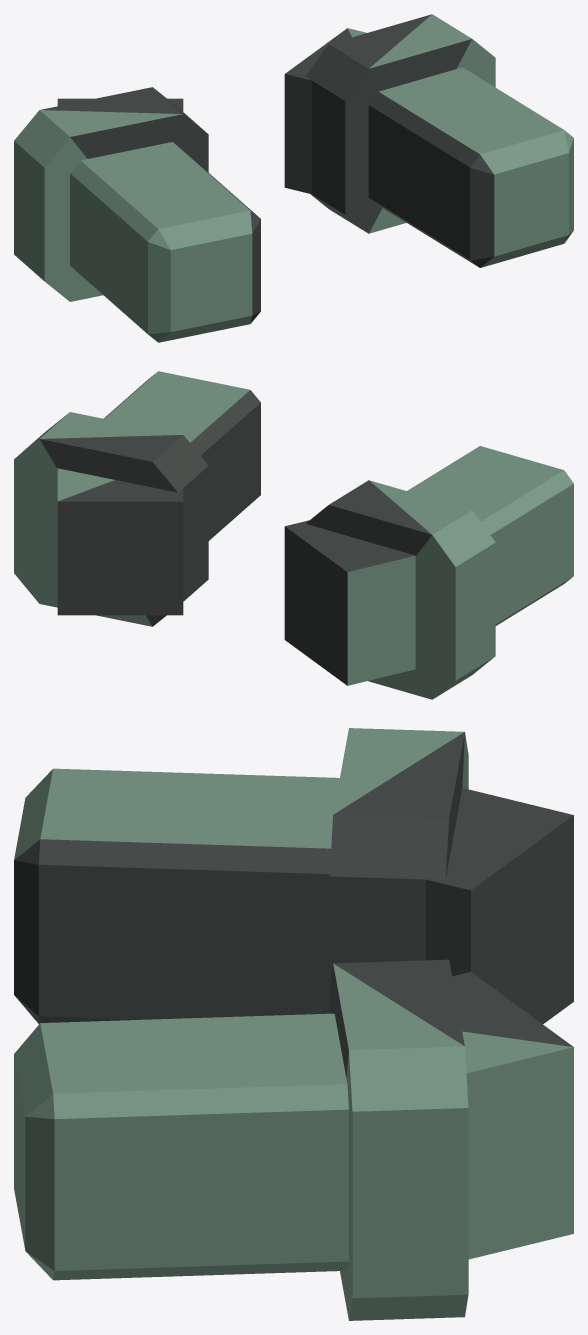
The model's file is fps-arms-selfcontained-v131.glb.
The picture shows the model from 3 angles, top to bottom: view 1: azimuth 30°, elevation 25°; view 2: azimuth 150°, elevation 25°; view 3: azimuth 270°, elevation 25°; orthographic projection. The views are drawn at different scales.
Visible parts, largest first — view 1: fps-arms-v131; view 2: fps-arms-v131; view 3: fps-arms-v131.
Part boxes in pixels (x1,y1,x2,y2): fps-arms-v131: [14, 14, 573, 342]; fps-arms-v131: [14, 371, 573, 699]; fps-arms-v131: [14, 728, 573, 1320].
Size of the model in its own units: 0.4606 by 0.161 by 0.3018.
